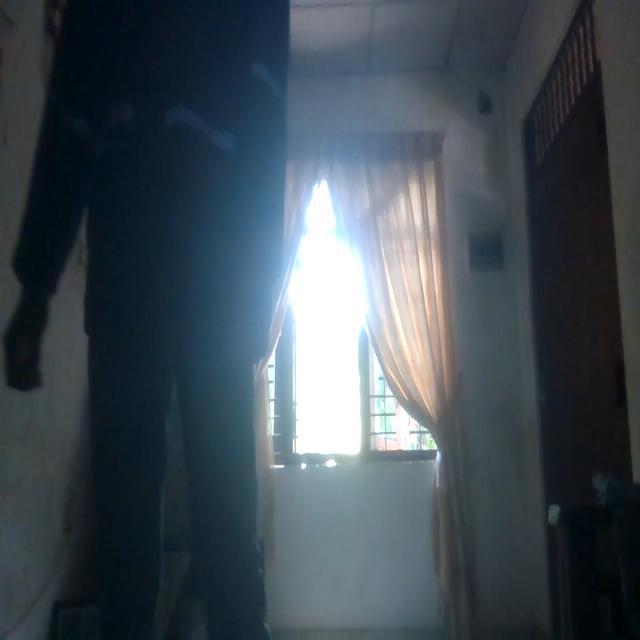Jacket_Wearer: (42, 0, 268, 360)
Person: (12, 0, 281, 637)
